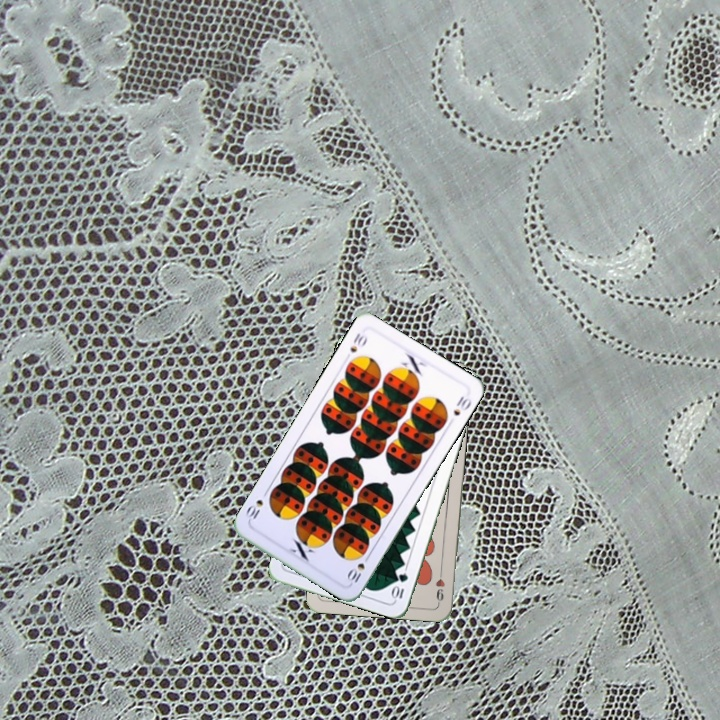G10: (389, 568, 411, 603)
H9: (431, 565, 447, 606)
S10: (343, 550, 373, 587), (346, 328, 370, 355)
